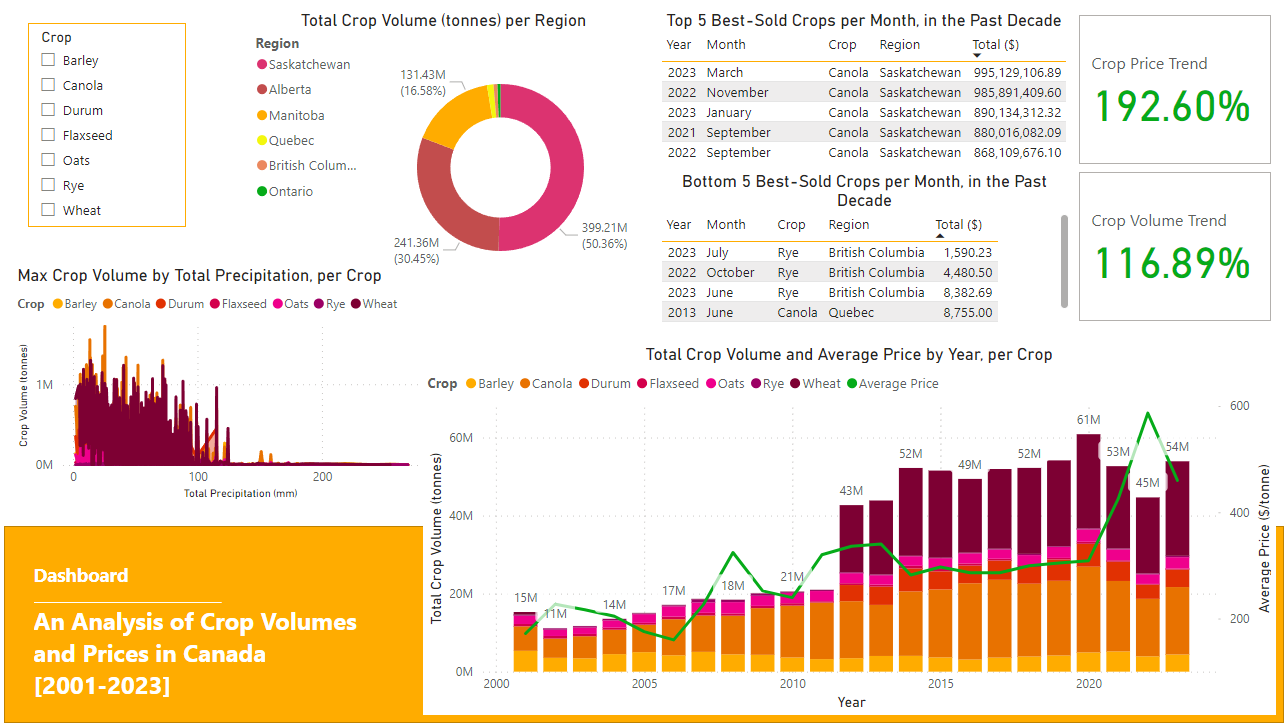

The dashboard page shown, as its layout file describes it:
{"tool":"powerbi","page":{"name":"Overview","canvas":[1280,720],"ordinal":0},"visuals":[{"type":"shape","box":[0,522.9,1280,197.1],"z":0},{"type":"donutChart","title":"Total Crop Volume (tonnes) per Region","fields":{"Y":["Sum(public FactTable.Volume)"],"Category":["public Region.Name_EN"]},"box":[247.4,7.1,385.7,296.2],"z":1000},{"type":"slicer","fields":{"Values":["public Crop.Common Name"]},"box":[24.4,20,157.8,204.4],"z":2000},{"type":"tableEx","title":"Top 5 Best-Sold Crops per Month, in the Past Decade","fields":{"Values":["public Date.Year","public Date.Month_LongName","public Crop.Common Name","public Region.Name_EN","public FactTable.Total_Value"]},"box":[651.8,3.6,417.3,161.8],"z":3000},{"type":"tableEx","title":"Bottom 5 Best-Sold Crops per Month, in the Past Decade","fields":{"Values":["public Date.Year","public Date.Month_LongName","public Crop.Common Name","public Region.Name_EN","public FactTable.Total_Value"]},"box":[651.8,165.5,418.2,176.4],"z":4000},{"type":"cardVisual","fields":{"Data":["public FactTable.Price Trend","public FactTable.Percent Volume Trend"]},"box":[1070,6.7,202.2,316.7],"z":5000},{"type":"lineStackedColumnComboChart","title":"Total Crop Volume and Average Price by Year, per Crop","fields":{"Category":["public Date.Year Hierarchy.Year","public Date.Year Hierarchy.Quarter","public Date.Year Hierarchy.Month_LongName"],"Series":["public Crop.Common Name"],"Y":["Sum(public FactTable.Volume)"],"Y2":["Avg(public FactTable.Price)"]},"box":[430,348.2,841.8,363.6],"z":6000},{"type":"textbox","box":[24.6,554.4,377,157.7],"z":7000},{"type":"areaChart","title":"Max Crop Volume by Total Precipitation, per Crop","fields":{"Category":["public Climate.Total_Precip"],"Series":["public Crop.Common Name"],"Y":["Max(public FactTable.Volume)"]},"box":[8.6,262.4,410.2,239],"z":8000}]}

Visuals, with their boxes in screenshot pixels (x1, y1, x2, y2), scaled from the page's 1280x720 canvas onto the 1287x726 screenshot:
shape: bbox(0, 527, 1286, 725)
"Total Crop Volume (tonnes) per Region" donutChart: bbox(249, 7, 637, 306)
slicer - public Crop.Common Name: bbox(25, 20, 183, 226)
"Top 5 Best-Sold Crops per Month, in the Past Decade" tableEx: bbox(655, 4, 1075, 167)
"Bottom 5 Best-Sold Crops per Month, in the Past Decade" tableEx: bbox(655, 167, 1076, 345)
cardVisual - public FactTable.Price Trend x public FactTable.Percent Volume Trend: bbox(1076, 7, 1279, 326)
"Total Crop Volume and Average Price by Year, per Crop" lineStackedColumnComboChart: bbox(432, 351, 1279, 718)
textbox: bbox(25, 559, 404, 718)
"Max Crop Volume by Total Precipitation, per Crop" areaChart: bbox(9, 265, 421, 506)
